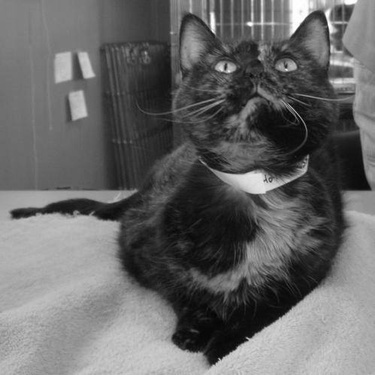cat: (11, 8, 341, 368)
